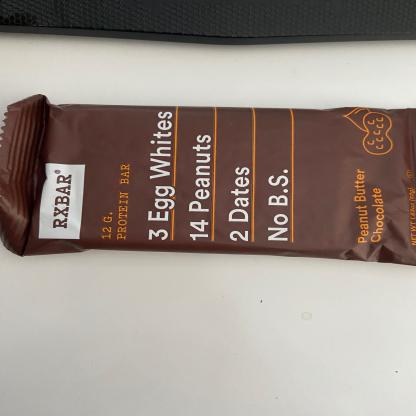ProteinBars: (6, 107, 416, 256)
